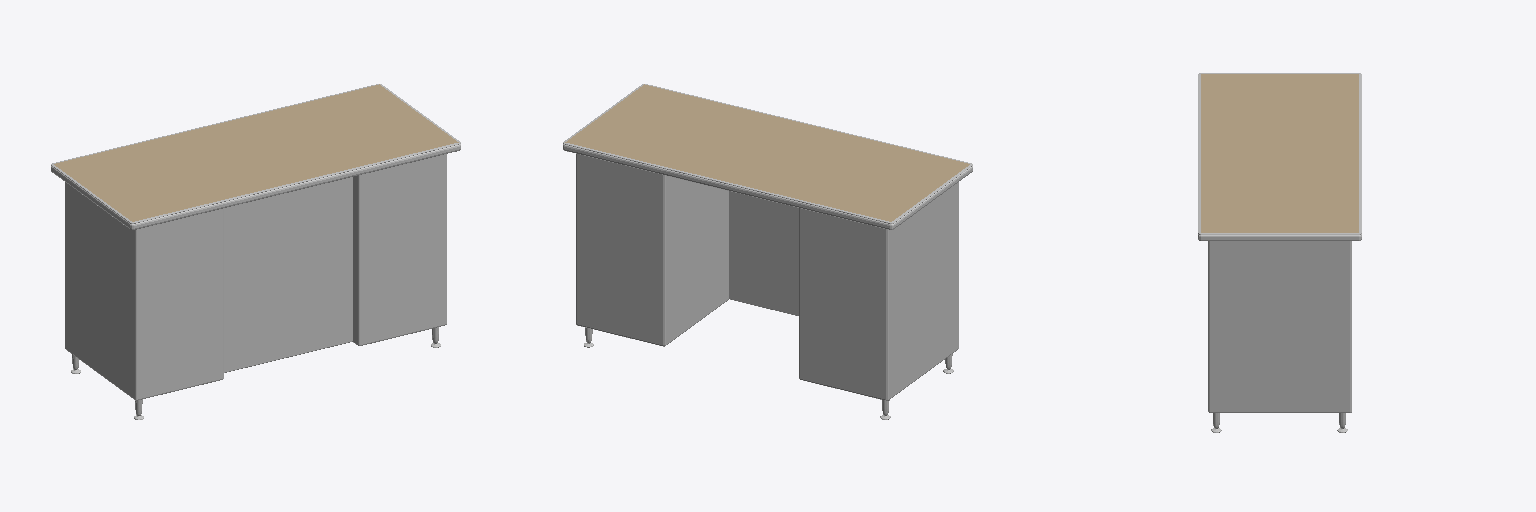
3 renders of one model, left to right at view 1: azimuth 30°, elevation 25°; view 2: azimuth 150°, elevation 25°; view 3: azimuth 270°, elevation 25°, orthographic.
Visible parts, largest first — view 1: ChamferBox01, ChamferBox01.001_ChamferBox01.002; view 2: ChamferBox01, ChamferBox01.001_ChamferBox01.002; view 3: ChamferBox01.001_ChamferBox01.002, ChamferBox01.
Boxes of the visible parts, <box> form: ChamferBox01: <box>51,144,460,400</box>; ChamferBox01.001_ChamferBox01.002: <box>51,84,460,223</box>; ChamferBox01: <box>563,144,972,400</box>; ChamferBox01.001_ChamferBox01.002: <box>563,84,972,223</box>; ChamferBox01.001_ChamferBox01.002: <box>1198,73,1361,234</box>; ChamferBox01: <box>1198,234,1361,412</box>.
Size of the model in its own units: 1.38 by 0.817 by 0.5906.
Materials: 5 (2 with a texture image).